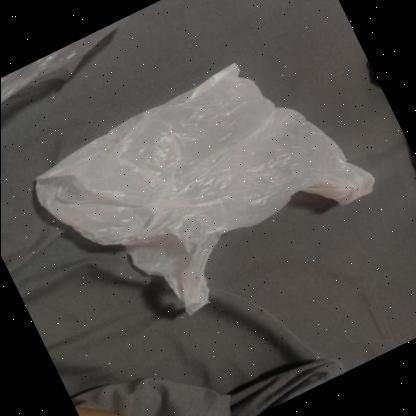Others: (35, 62, 378, 316)
